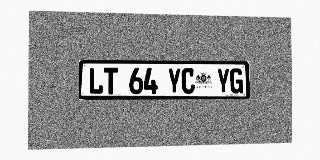4: (144, 68, 157, 94)
6: (129, 68, 143, 94)
C: (181, 68, 195, 94)
G: (230, 68, 243, 93)
L: (89, 67, 103, 94)
T: (104, 68, 118, 94)
Y: (167, 68, 181, 94), (216, 68, 230, 94)
